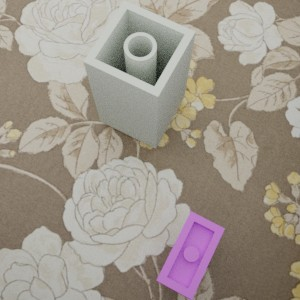lego: (83, 0, 195, 148), (156, 211, 225, 299)
